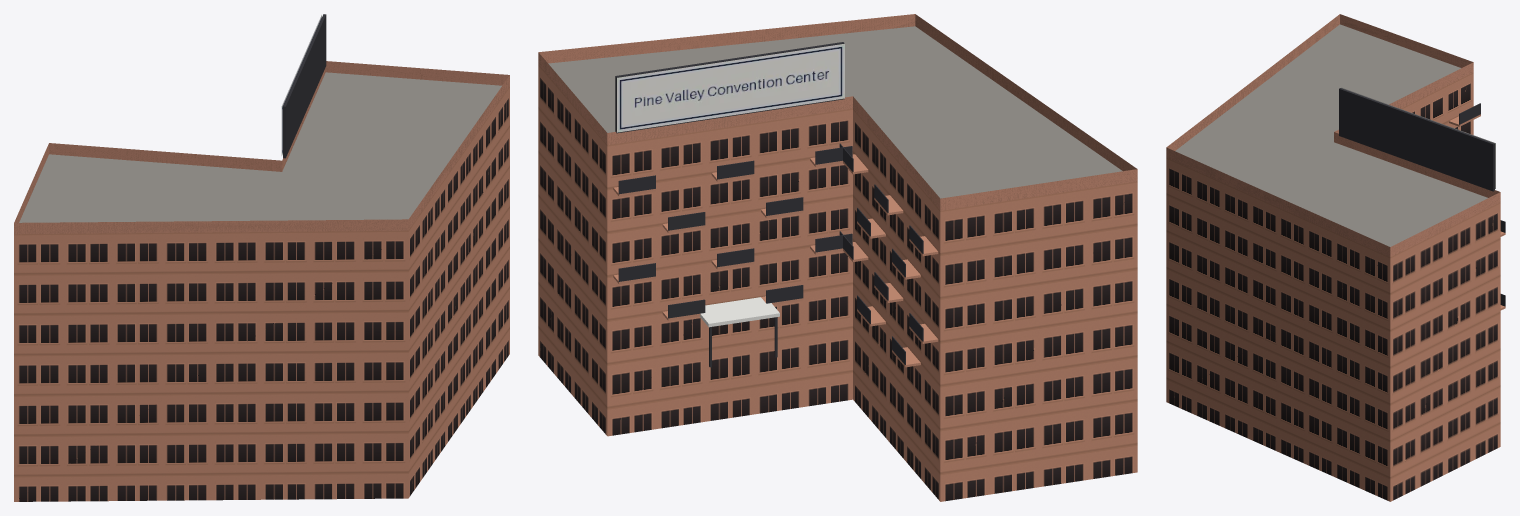
Rendered from hotels-27360-14866.3cbbf706.glb.
3 views of the same model, side by side, from view 1: azimuth 30°, elevation 25°; view 2: azimuth 150°, elevation 25°; view 3: azimuth 270°, elevation 25° (orthographic). The views are drawn at different scales.
Size of the model in its own units: 43.46 by 26.14 by 26.71.
Materials: 4 (2 with a texture image).
